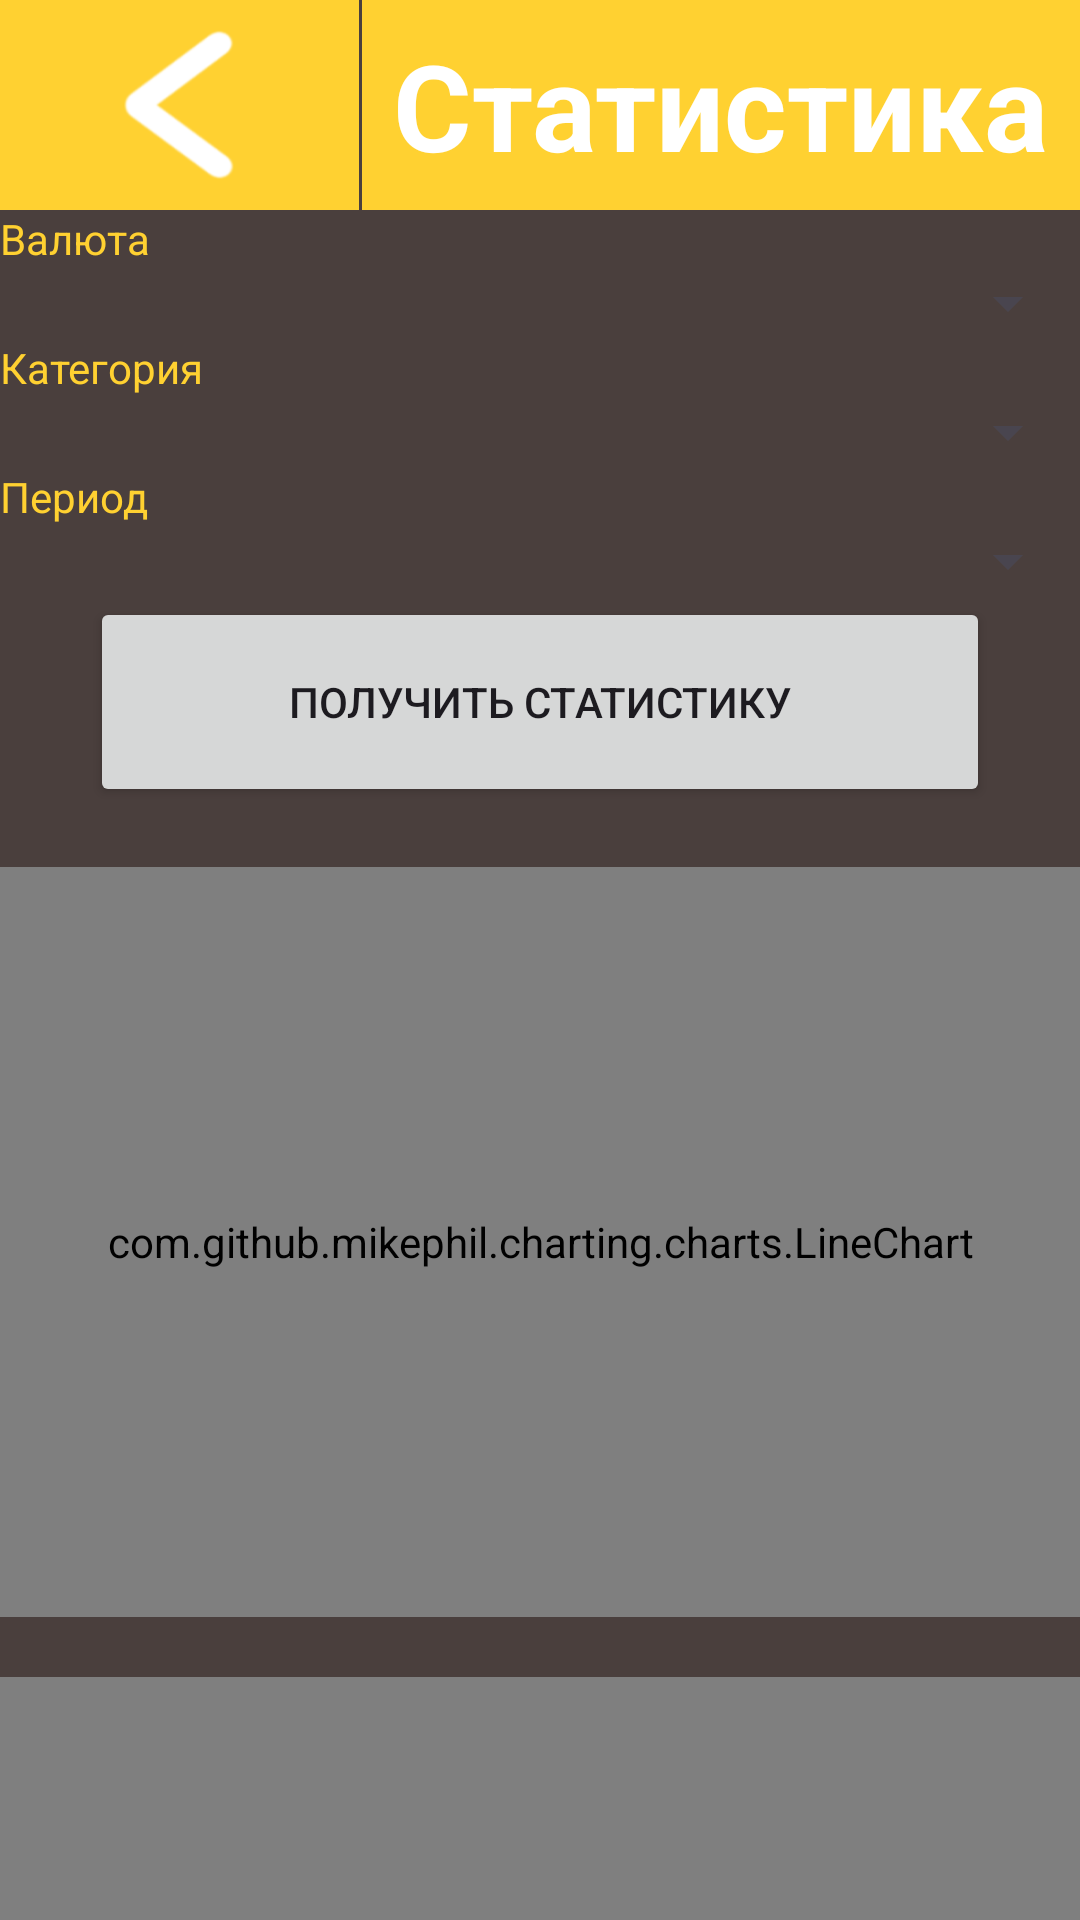

Named icons in this screenshot (1080×1920) and their bounding boxes, detection(x1, y1, x2, y2):
back: detection(124, 31, 233, 179)
